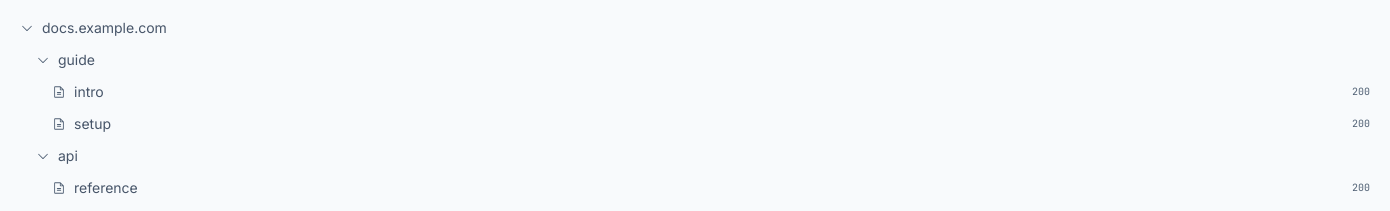
Test: ResultTree › collapsing a nested folder only hides its own descendants, not sibling branches
What coordinates should you click on to do the following:
click the list item "guide"
I would click on:
 (76, 60)
Its box is [12,44,1378,76].
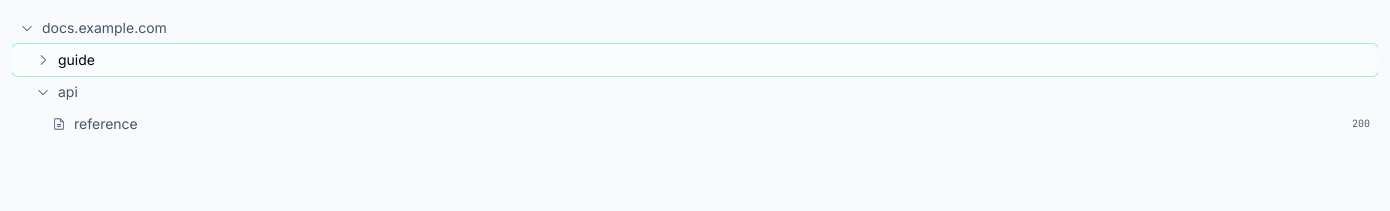
Expected: the text "docs.example.com" is shown, [42,18,167,38]
Expected: the list item "intro" is gone
Expected: the list item "setup" is gone
